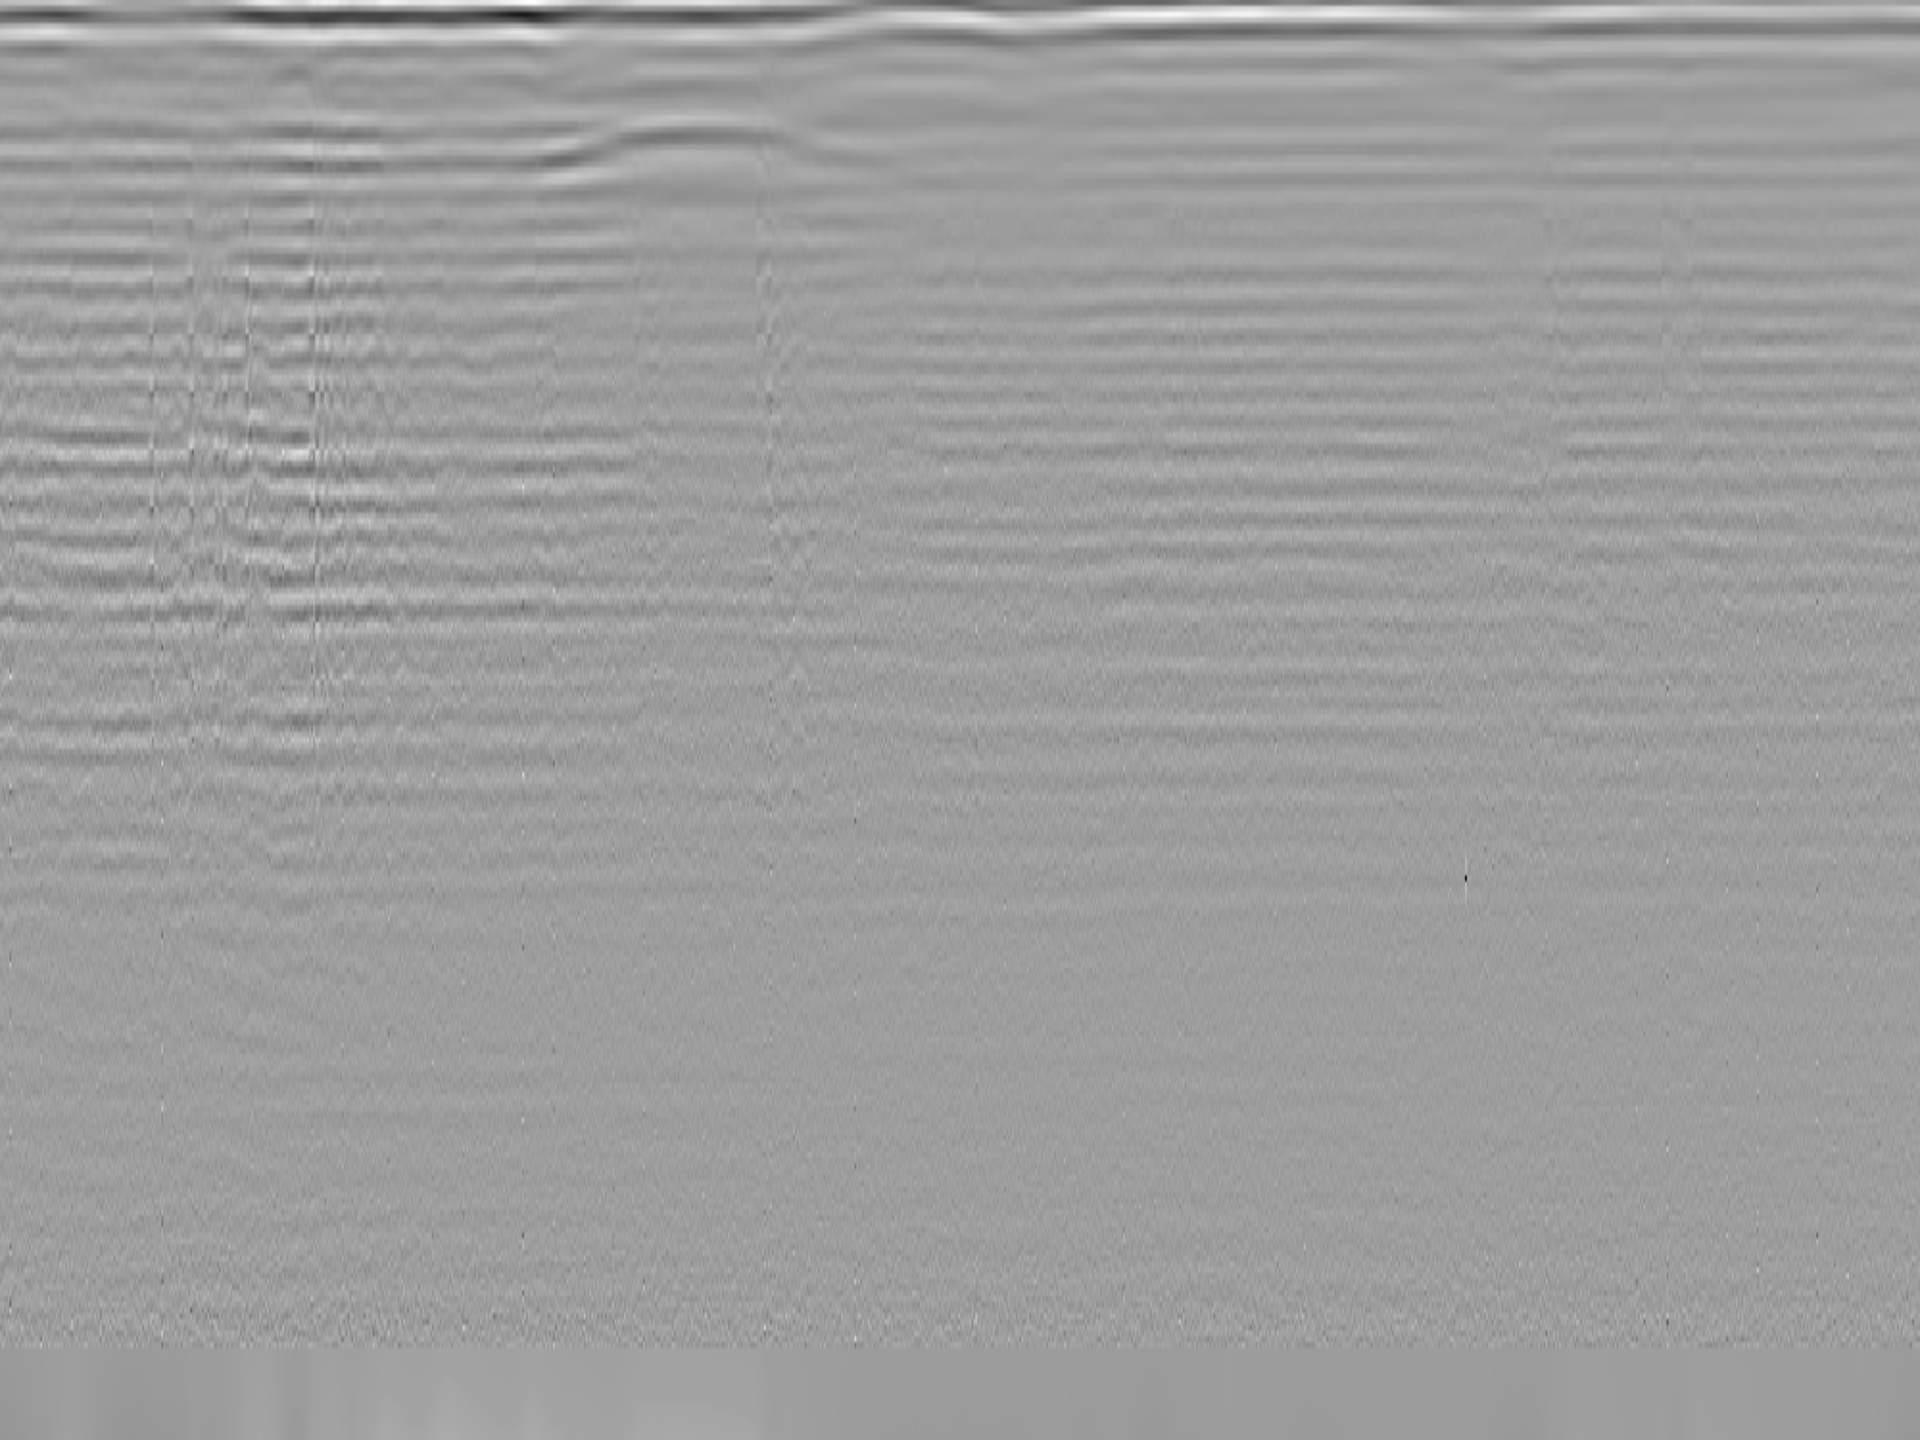Tunnel: (531, 115, 859, 172)
